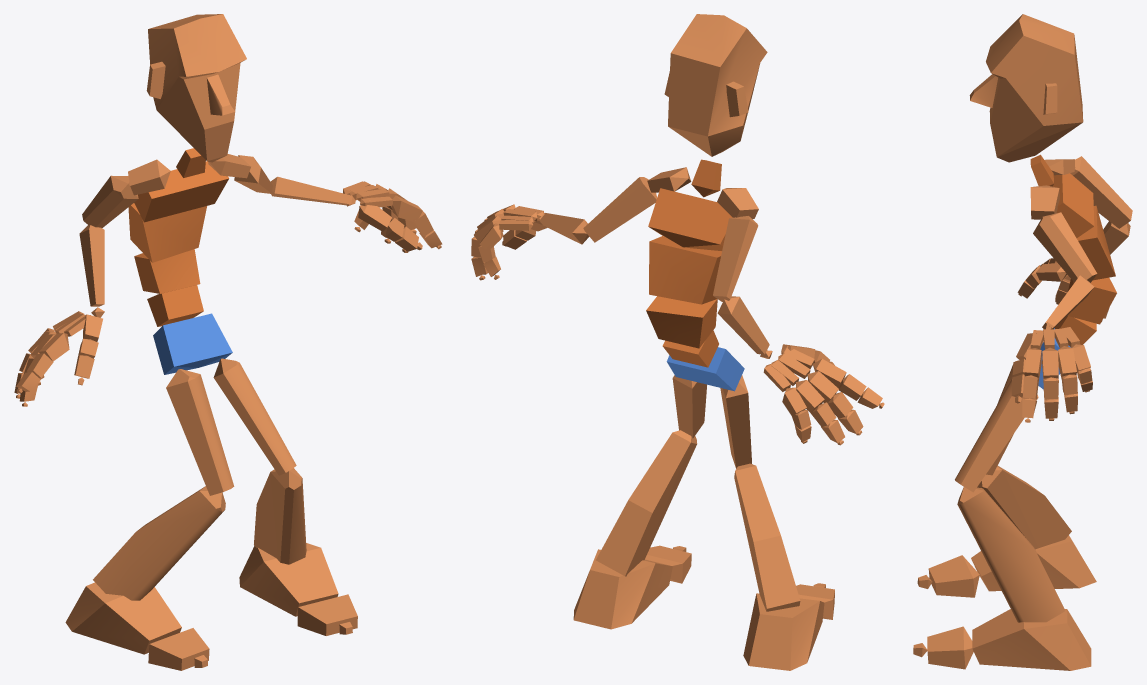
The model's file is prueba97.obj.
3 renders of one model, left to right at view 1: azimuth 30°, elevation 25°; view 2: azimuth 150°, elevation 25°; view 3: azimuth 270°, elevation 25°, orthographic. The views are drawn at different scales.
Visible parts, largest first — view 1: BOPED_Head, BOPED_R_leg, BOPED_R_foot, BOPED_R_foot01, BOPED_R_legup, BOPED_L_leg, Bone01, BOPED_L_legup, Bone04, Bone05, Bone03, BOPED_R_foot_toe01 (+9 smaller); view 2: BOPED_Head, BOPED_L_leg, BOPED_R_leg, BOPED_R_foot01, BOPED_R_foot, Bone04, Bone05, Bone03, BOPED_R_arm_upper, BOPED_L_arm_upper, BOPED_R_legup, Bone01 (+9 smaller); view 3: BOPED_Head, BOPED_L_leg, BOPED_R_foot01, BOPED_R_leg, BOPED_L_legup, BOPED_R_foot, BOPED_L_arm_upper, Bone05, BOPED_R_arm_upper, BOPED_R_foot_toe01, BOPED_R_foot_toe04, Bone04 (+14 smaller).
Part boxes in pixels (<box>): BOPED_Head: <box>146,14,246,162</box>; BOPED_R_leg: <box>93,486,225,600</box>; BOPED_R_foot: <box>65,582,181,654</box>; BOPED_R_foot01: <box>239,543,338,616</box>; BOPED_R_legup: <box>166,369,234,495</box>; BOPED_L_leg: <box>254,468,306,564</box>; Bone01: <box>153,313,232,374</box>; BOPED_L_legup: <box>213,358,296,475</box>; Bone04: <box>128,203,206,262</box>; Bone05: <box>134,161,229,222</box>; Bone03: <box>134,249,200,293</box>; BOPED_R_foot_toe01: <box>148,628,209,670</box>; BOPED_Head: <box>664,14,767,156</box>; BOPED_L_leg: <box>596,430,697,576</box>; BOPED_R_leg: <box>734,463,800,611</box>; BOPED_R_foot01: <box>573,549,672,629</box>; BOPED_R_foot: <box>743,593,824,670</box>; Bone04: <box>649,236,721,304</box>; Bone05: <box>648,188,732,250</box>; Bone03: <box>646,296,717,348</box>; BOPED_R_arm_upper: <box>713,216,758,301</box>; BOPED_L_arm_upper: <box>583,177,656,242</box>; BOPED_R_legup: <box>720,375,751,468</box>; Bone01: <box>666,347,744,391</box>; BOPED_Head: <box>969,14,1083,162</box>; BOPED_L_leg: <box>957,487,1065,622</box>; BOPED_R_foot01: <box>972,608,1091,670</box>; BOPED_R_leg: <box>977,466,1071,549</box>; BOPED_L_legup: <box>955,379,1038,492</box>; BOPED_R_foot: <box>971,535,1096,591</box>; BOPED_L_arm_upper: <box>1033,212,1097,282</box>; Bone05: <box>1053,173,1094,238</box>; BOPED_R_arm_upper: <box>1070,156,1132,228</box>; BOPED_R_foot_toe01: <box>928,555,979,597</box>; BOPED_R_foot_toe04: <box>927,626,973,669</box>; Bone04: <box>1073,205,1115,283</box>.
Bounding box in the file's own units: 130 × 181 × 60.8.
